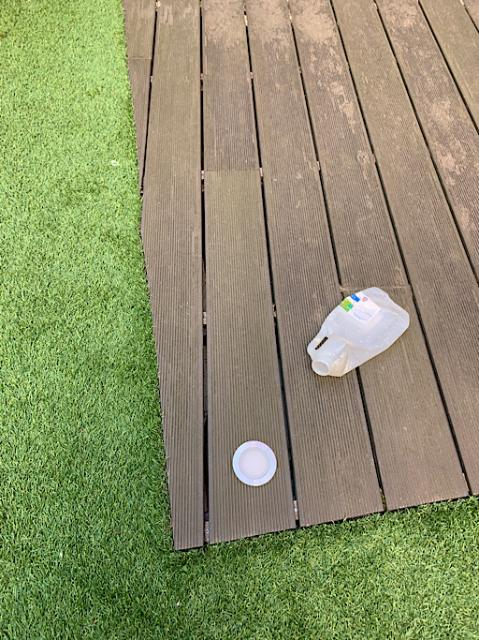plastic: (306, 286, 409, 375)
